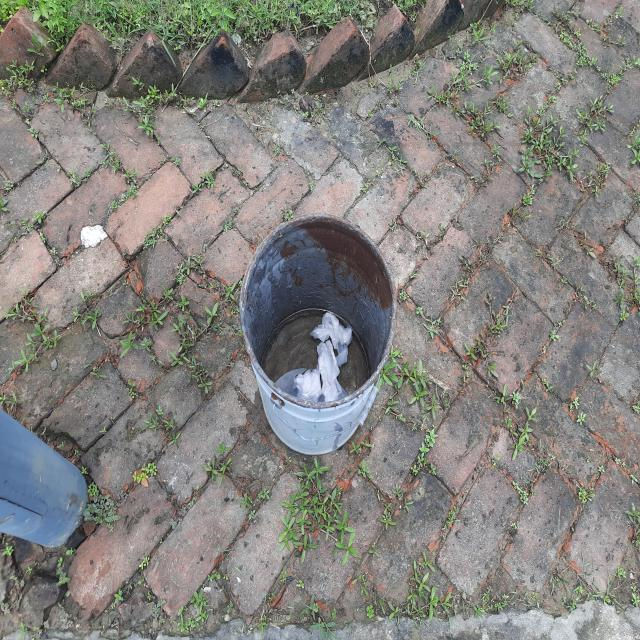Breeding Place: (232, 203, 412, 472), (0, 407, 105, 599)
